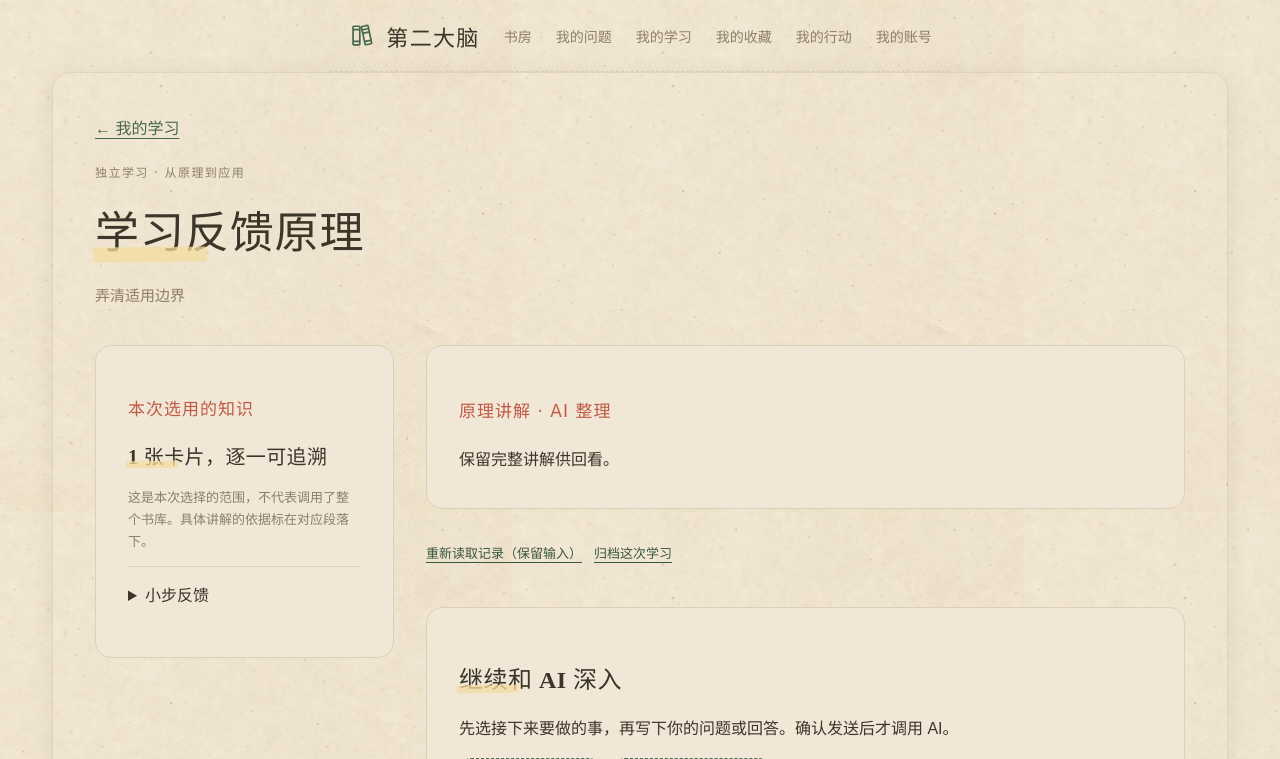
Test: 归档保留原学习内容，隐藏发送表单
Expected: the text "保留完整讲解供回看。" is shown, [459,452,619,468]
Click the button "归档这次学习": [633, 552] box [594,530,672,576]
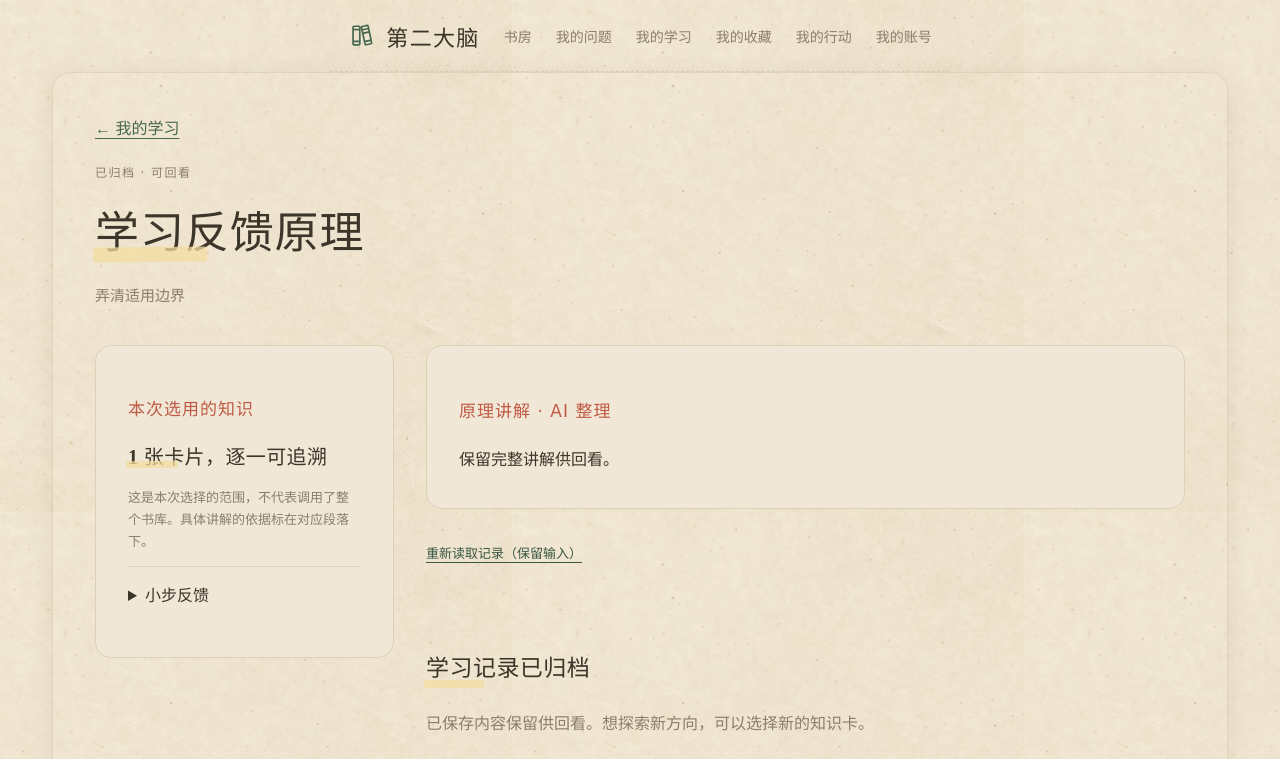
Expected: the text "保留完整讲解供回看。" is shown, [459,452,619,468]
Now the heading "学习记录已归档" is shown, box [426,656,590,680]
